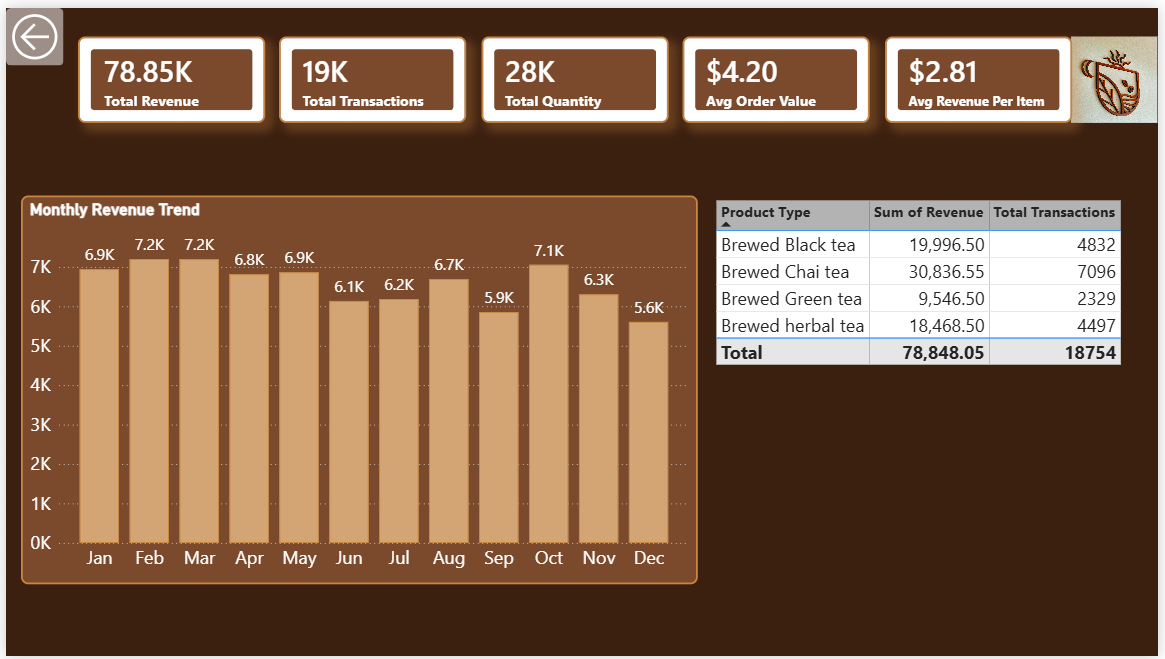

What the dashboard file says about the page in this screenshot:
{"tool":"powerbi","page":{"name":"Product Detail","canvas":[1280,720],"ordinal":3},"visuals":[{"type":"actionButton","box":[0,0,64,64],"z":3000},{"type":"tableEx","fields":{"Values":["Coffee_shop_sales.Product Type","Sum(Coffee_shop_sales.Revenue)","KPI_Measures.Total Transactions"]},"box":[784,208,480,432],"z":4000},{"type":"cardVisual","fields":{"Data":["KPI_Measures.Total Revenue"]},"box":[80,32,208,96],"z":5000},{"type":"cardVisual","fields":{"Data":["KPI_Measures.Total Transactions"]},"box":[320,32,208,96],"z":6000},{"type":"cardVisual","fields":{"Data":["KPI_Measures.Total Quantity"]},"box":[560,32,208,96],"z":7000},{"type":"cardVisual","fields":{"Data":["KPI_Measures.Avg Order Value"]},"box":[800,32,208,96],"z":8000},{"type":"cardVisual","fields":{"Data":["KPI_Measures.Avg Revenue Per Item"]},"box":[1040,32,208,96],"z":9000},{"type":"clusteredColumnChart","title":"Monthly Revenue Trend","fields":{"Category":["Date_Table.Month Name"],"Y":["KPI_Measures.Total Revenue"]},"box":[16,208,752,432],"z":10000}]}

Visuals, with their boxes in screenshot pixels (x1, y1, x2, y2), scaled from the page's 1280x720 canvas onto the 1165x659 screenshot:
actionButton: l=0, t=0, r=58, b=59
tableEx - Coffee_shop_sales.Product Type x Sum(Coffee_shop_sales.Revenue): l=714, t=190, r=1150, b=586
cardVisual - KPI_Measures.Total Revenue: l=73, t=29, r=262, b=117
cardVisual - KPI_Measures.Total Transactions: l=291, t=29, r=481, b=117
cardVisual - KPI_Measures.Total Quantity: l=510, t=29, r=699, b=117
cardVisual - KPI_Measures.Avg Order Value: l=728, t=29, r=917, b=117
cardVisual - KPI_Measures.Avg Revenue Per Item: l=947, t=29, r=1136, b=117
"Monthly Revenue Trend" clusteredColumnChart: l=15, t=190, r=699, b=586
